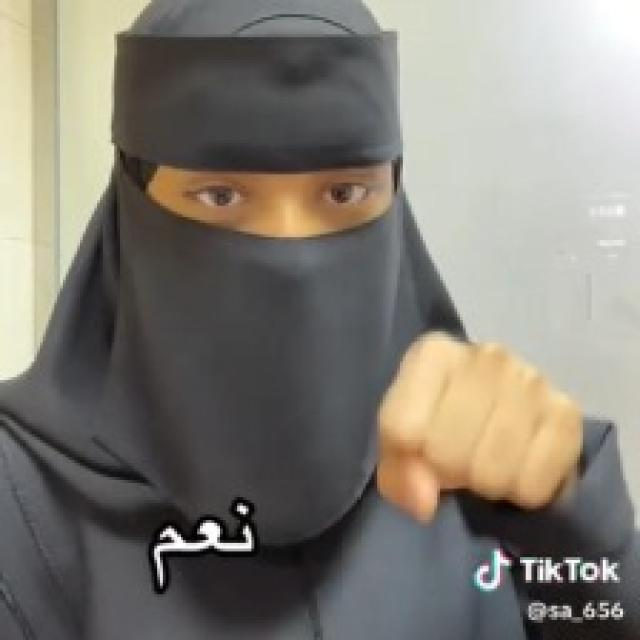yes: (367, 326, 592, 528)
